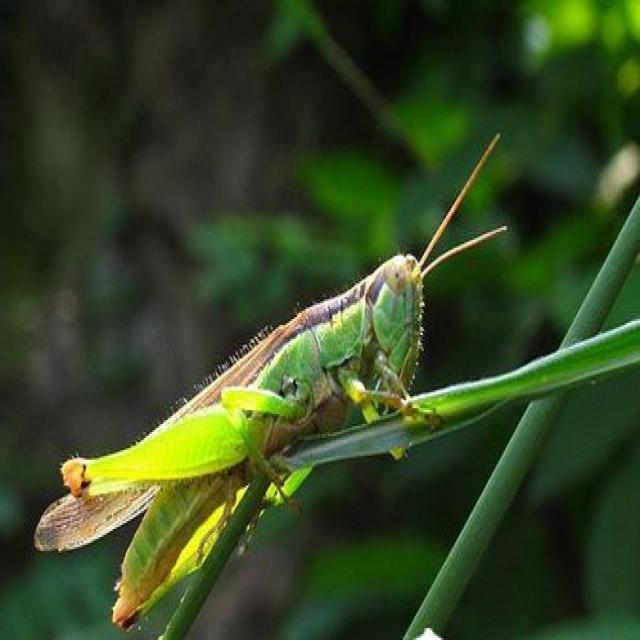ZhaMeng: (46, 246, 444, 610)
